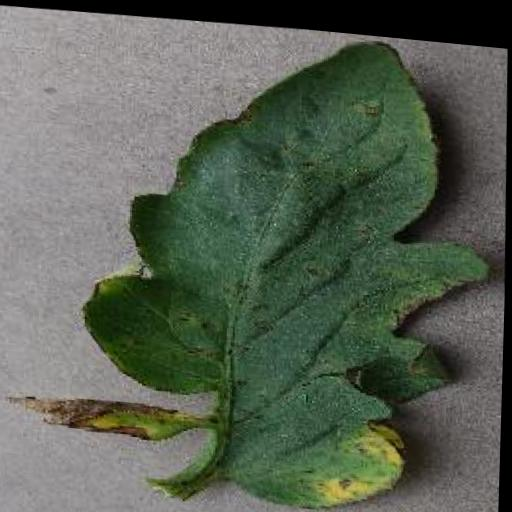Bacterial Spot: (0, 1, 507, 512)
